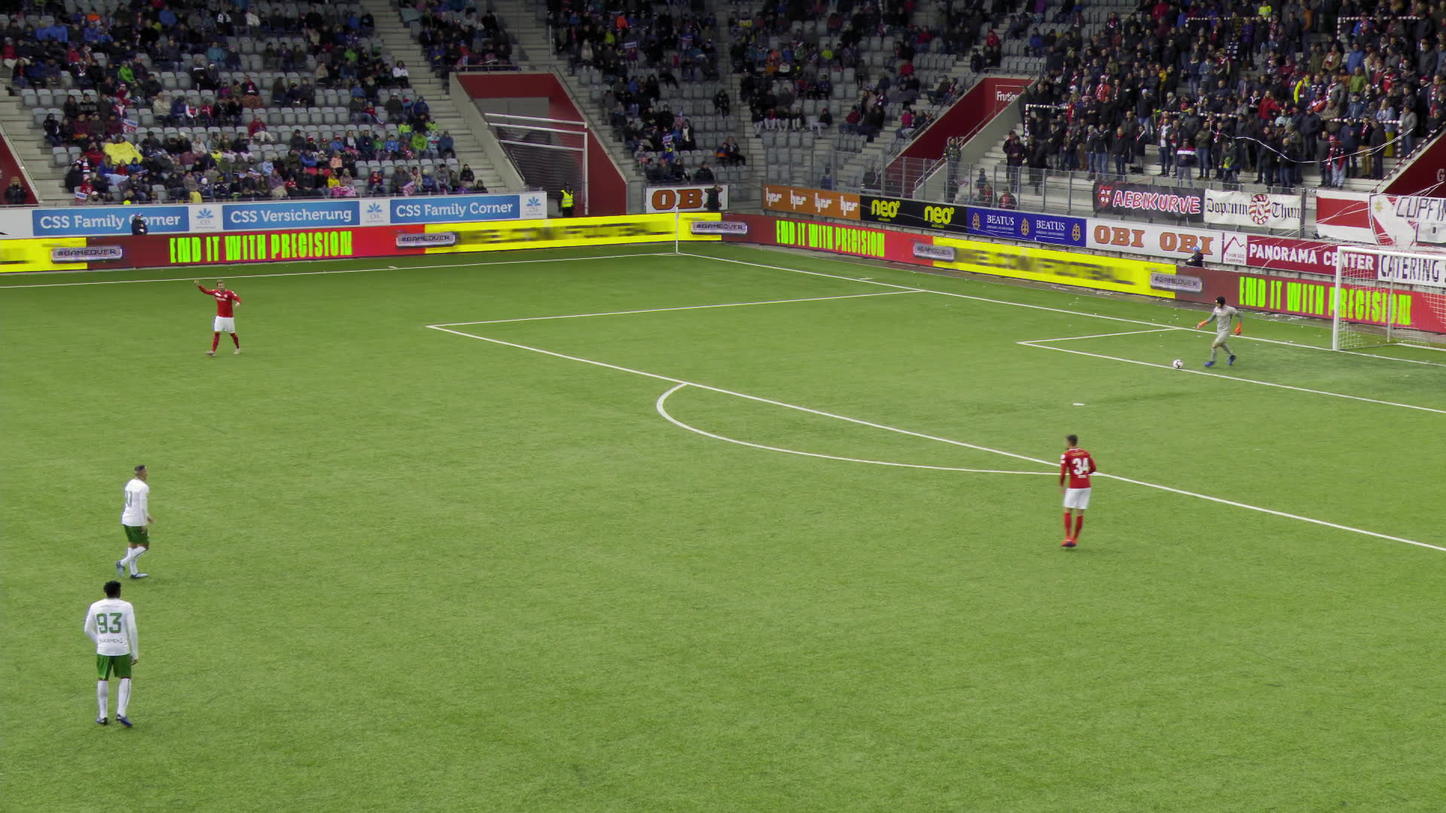ball: (1171, 358, 1182, 369)
player: (82, 579, 142, 726), (1048, 436, 1092, 549), (115, 463, 157, 580), (193, 275, 243, 356), (1198, 294, 1246, 368)
